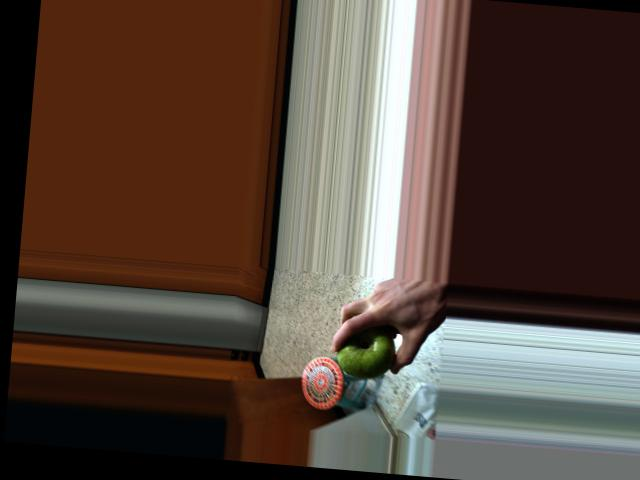apple: (331, 316, 401, 382)
